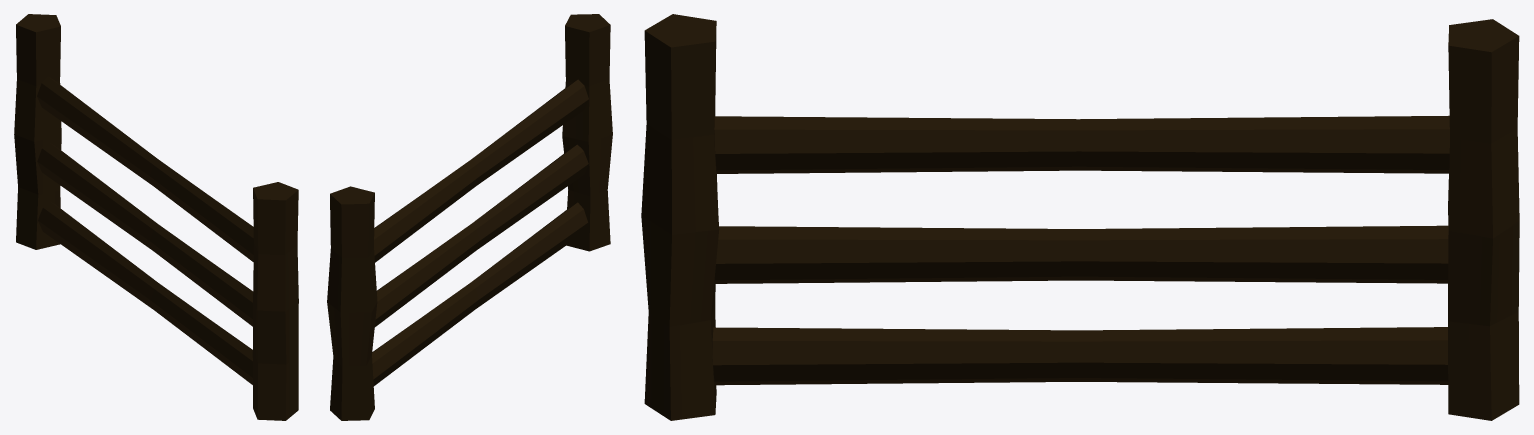
The model's file is Fence.fbx.
3 renders of one model, left to right at view 1: azimuth 30°, elevation 25°; view 2: azimuth 150°, elevation 25°; view 3: azimuth 270°, elevation 25°, orthographic. The views are drawn at different scales.
Parts seen in each view (by area): view 1: polySurface13; view 2: polySurface13; view 3: polySurface13.
Part boxes in pixels (x1,y1,x2,y2): polySurface13: (14, 14, 298, 420); polySurface13: (327, 14, 612, 420); polySurface13: (641, 14, 1519, 420).
Size of the model in its own units: 0.3062 by 1.44 by 3.08.
